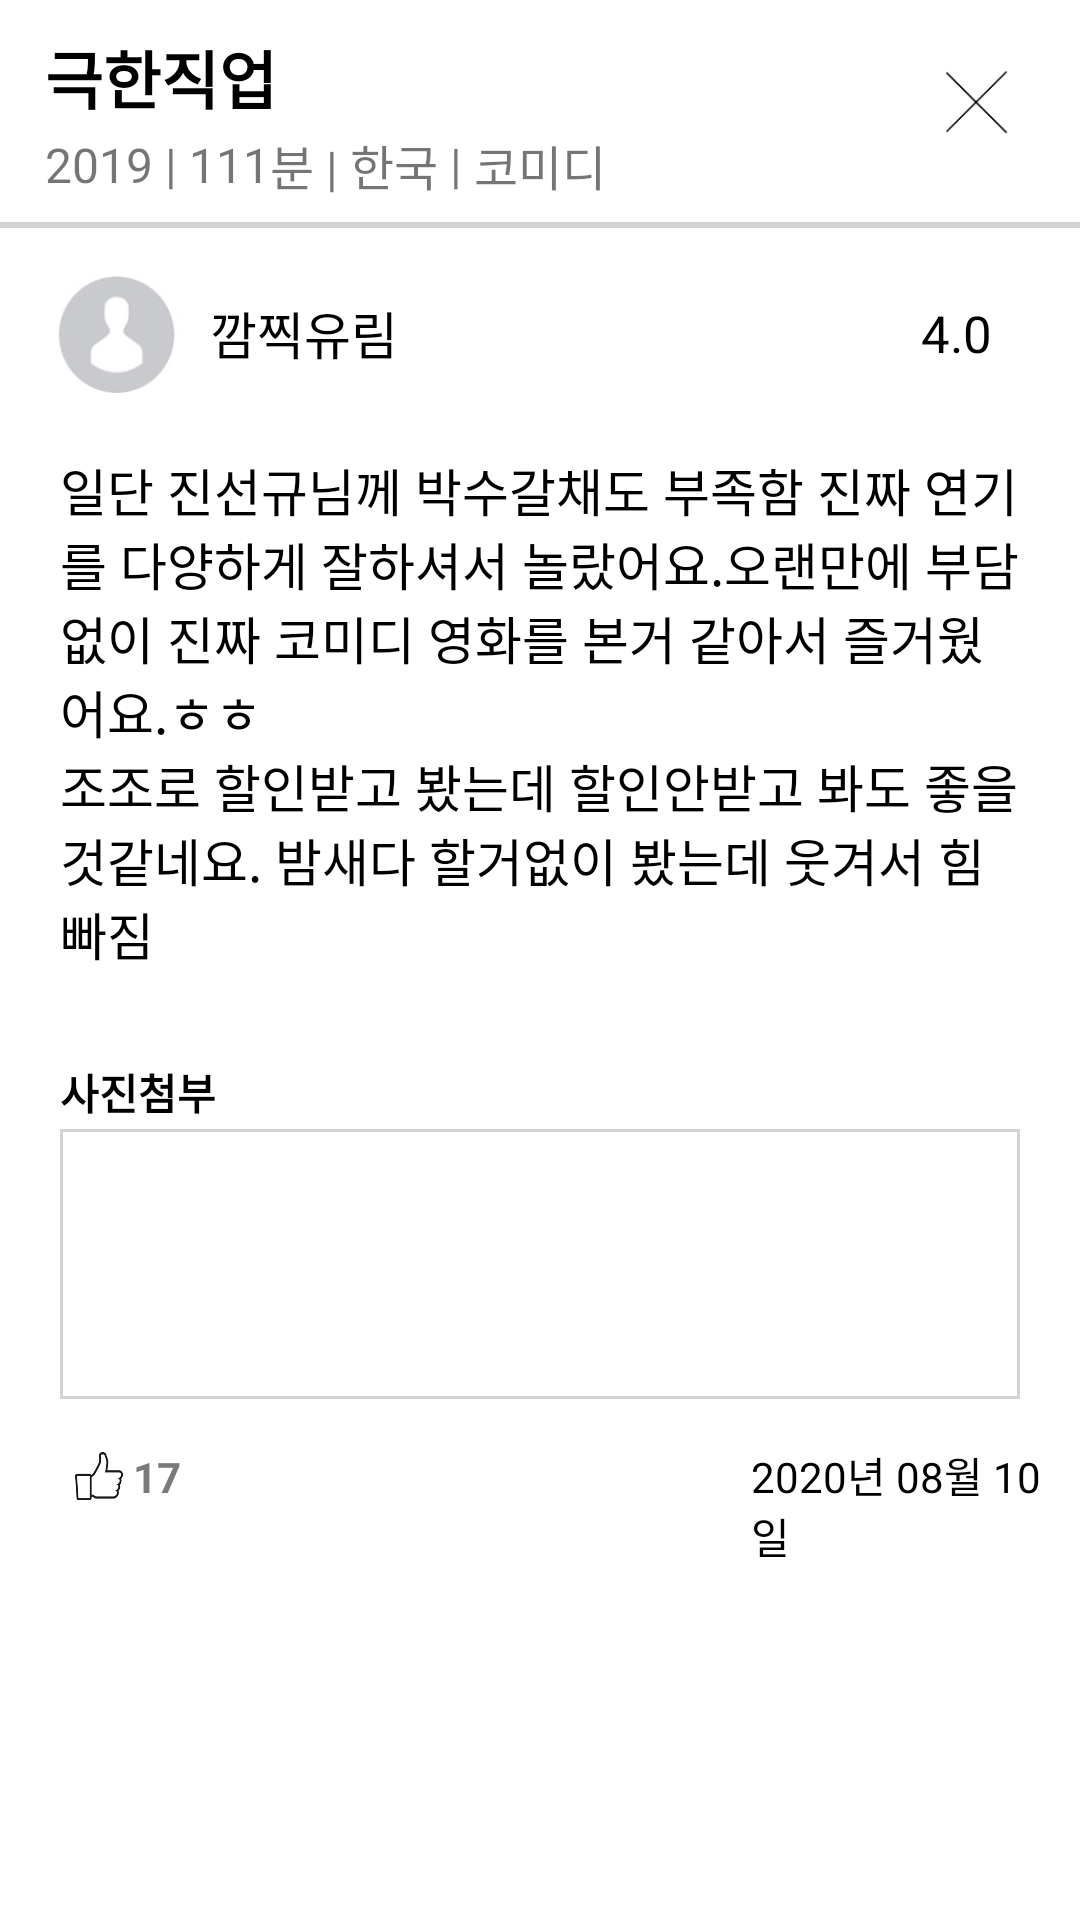

Screen size 1080w x 1920h. Icon name, then its center in pixels as (x=x, y=y):
person: (x=116, y=335)
